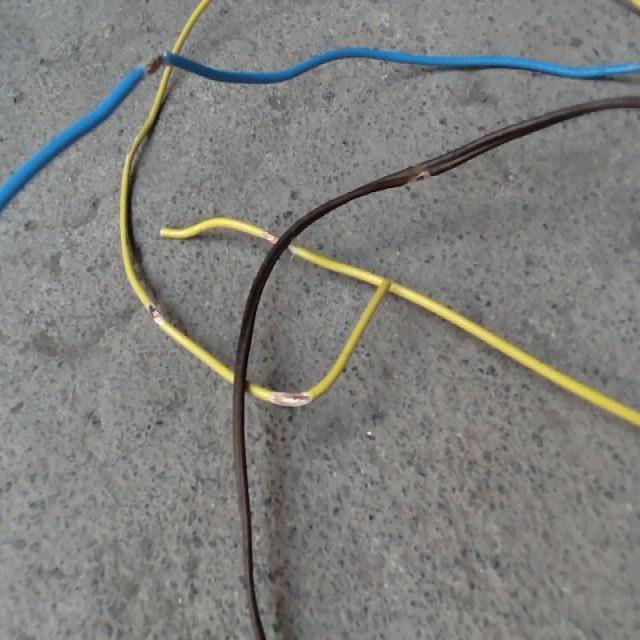-: (270, 388, 311, 409), (142, 49, 167, 78), (145, 299, 160, 328), (260, 227, 278, 248)
